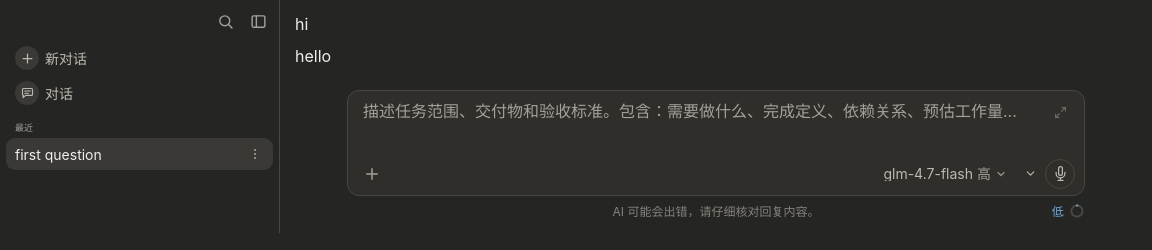
Test case: ExploreChat › Chats nav switches to the placeholder page; New chat returns to the conversation
Expected: the element with class "explore-composer" is shown, [357, 159, 1075, 189]
Click the button with class "explore-chats".
click(27, 93)  # box [6, 77, 273, 109]
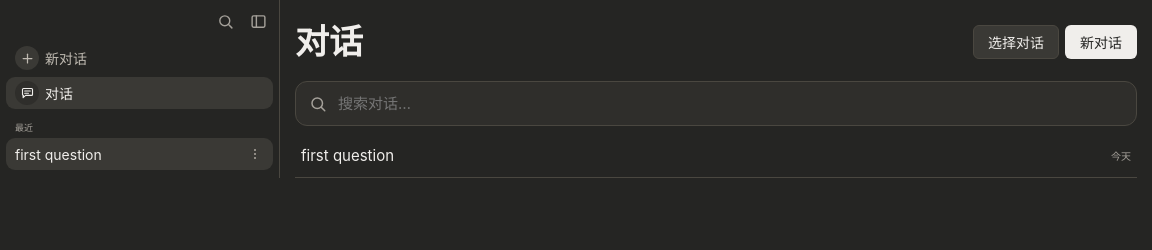
Expected: the element with class "chats-page" is shown, [280, 0, 1151, 178]
Click the button with class "explore-newchat".
click(66, 58)  # box [6, 42, 273, 74]
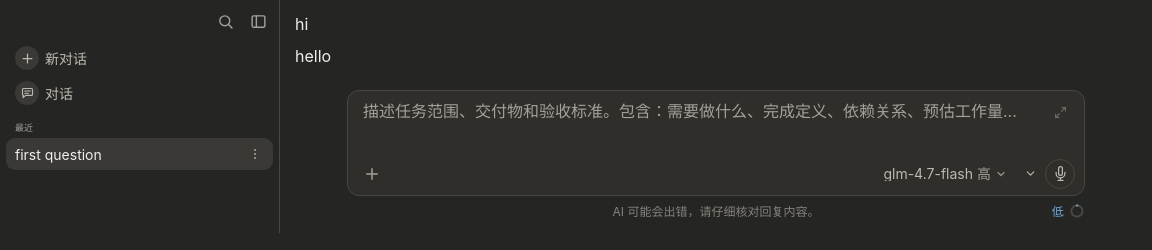
Expected: the element with class "explore-composer" is shown, [357, 159, 1075, 189]
